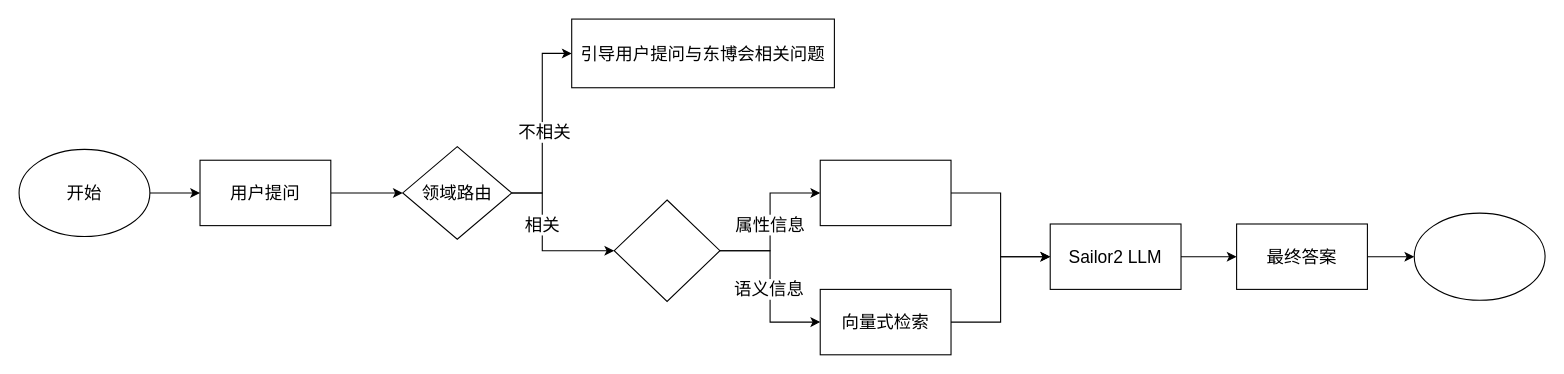
Image size: 1564x374. Some labels were removed from this diagram. Here are the shapes that lost their labels. From the top down, the box of each, then its label:
(819, 159, 951, 226): 结构化查询
(613, 199, 720, 301): 查询路由
(1413, 212, 1545, 300): 结束
